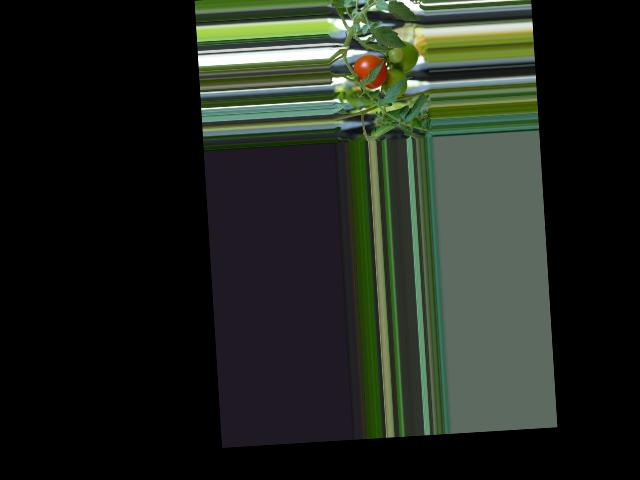tomato: (352, 53, 388, 89)
